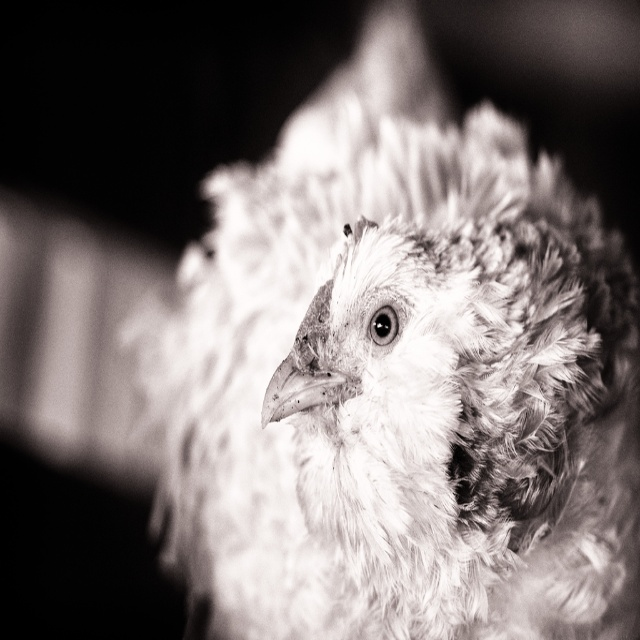Chicken: (131, 0, 640, 639)
